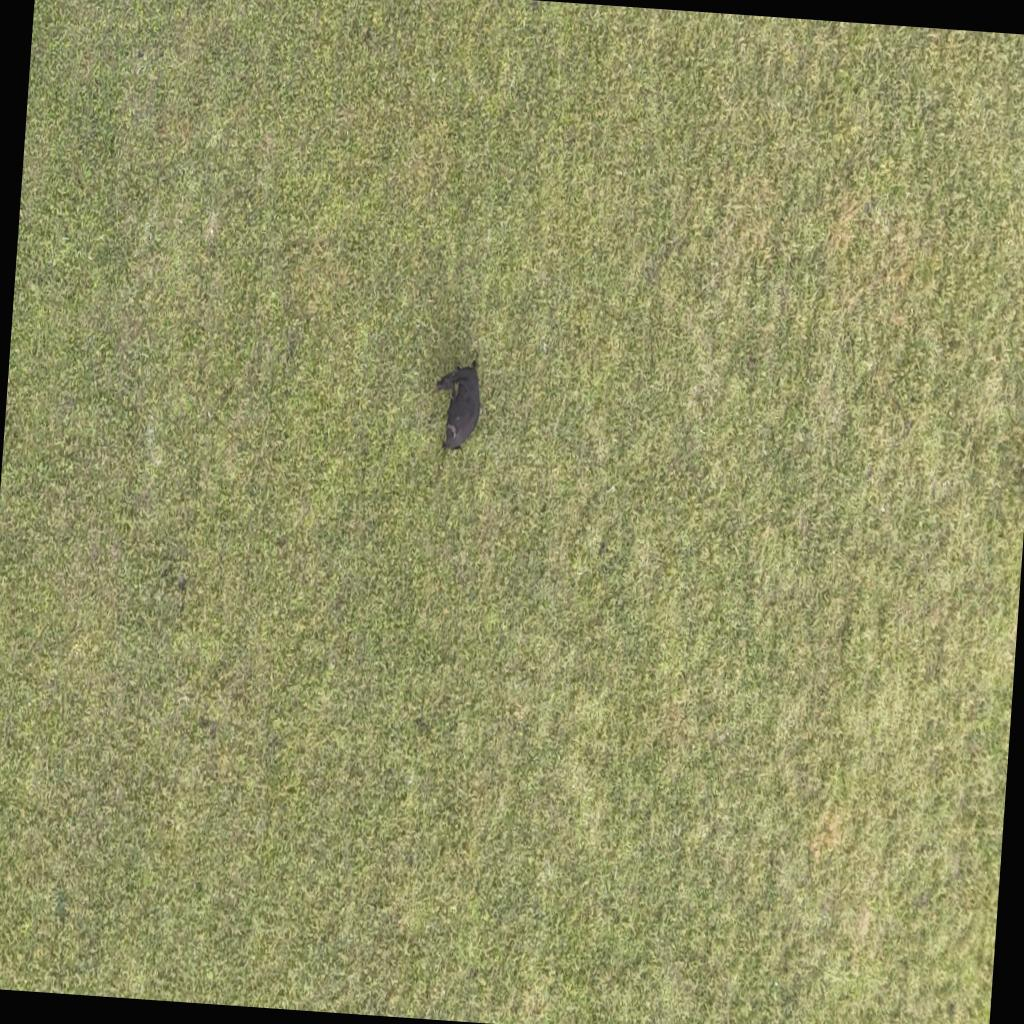cow: (431, 356, 488, 458)
